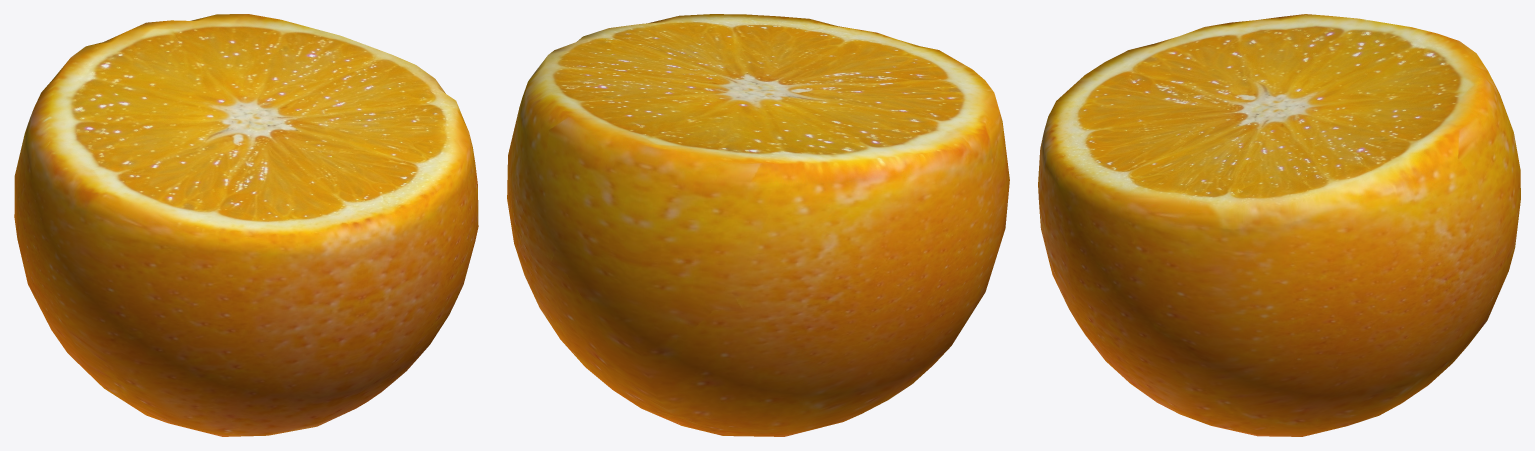
Rendered from Orange.gltf.
3 renders of one model, left to right at view 1: azimuth 30°, elevation 25°; view 2: azimuth 150°, elevation 25°; view 3: azimuth 270°, elevation 25°, orthographic. The views are drawn at different scales.
Visible parts, largest first — view 1: Object_2; view 2: Object_2; view 3: Object_2.
Boxes of the visible parts, x1=… form: Object_2: x1=14, y1=14, x2=478, y2=436; Object_2: x1=507, y1=14, x2=1009, y2=436; Object_2: x1=1038, y1=14, x2=1520, y2=436.
Size of the model in its own units: 27.8 by 21.09 by 27.78.
1 material, 1 textured.
